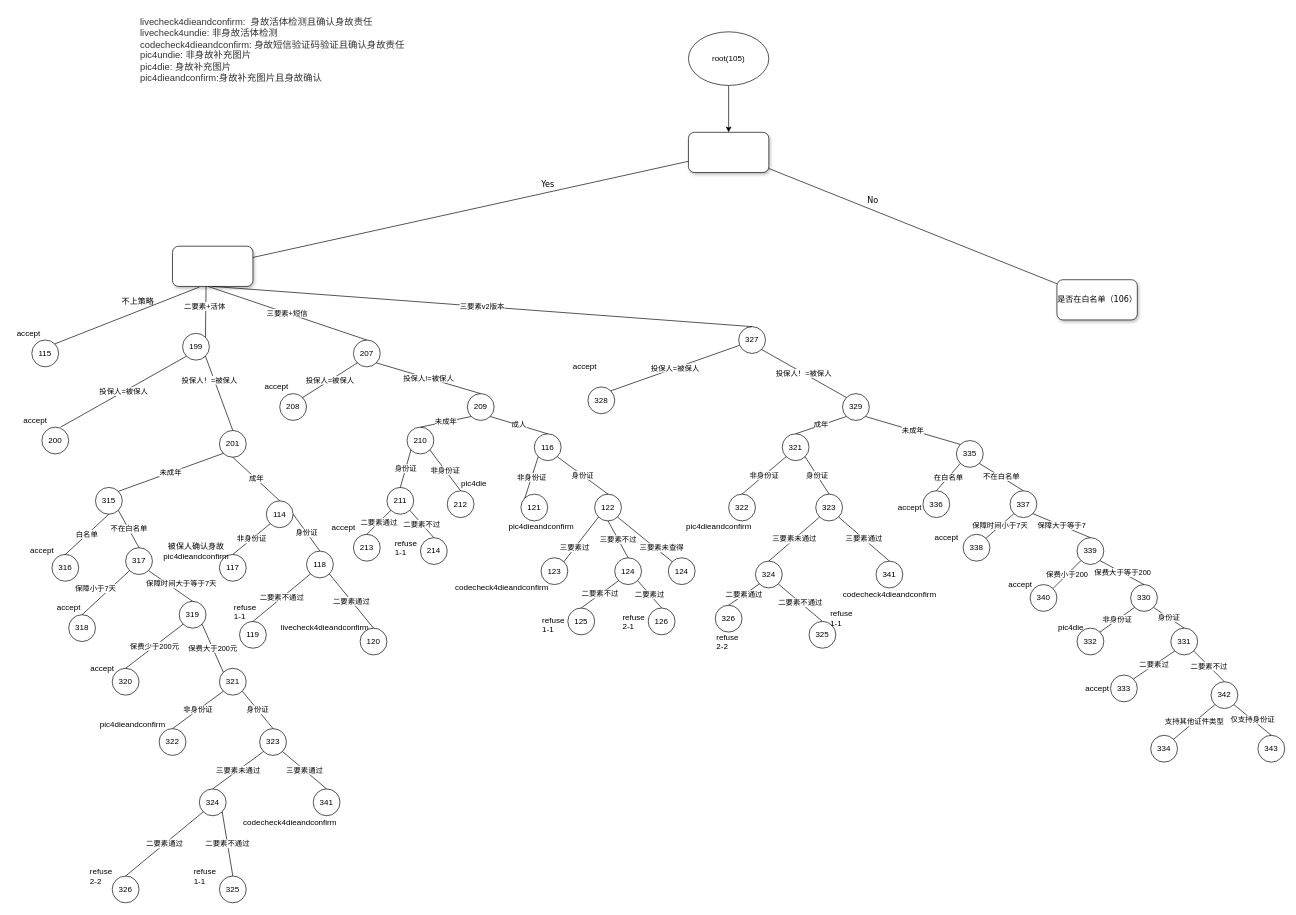
The diagram is 1296 pixels wide and 915 high, and some of its shapes have lost their labels. Here are the shapes that lost their labels. From the top down, the centre of each, then its label:
At (x=729, y=153): "产品是否含身故（112）".
At (x=213, y=267): "提取产品配置规则节点（113）".
